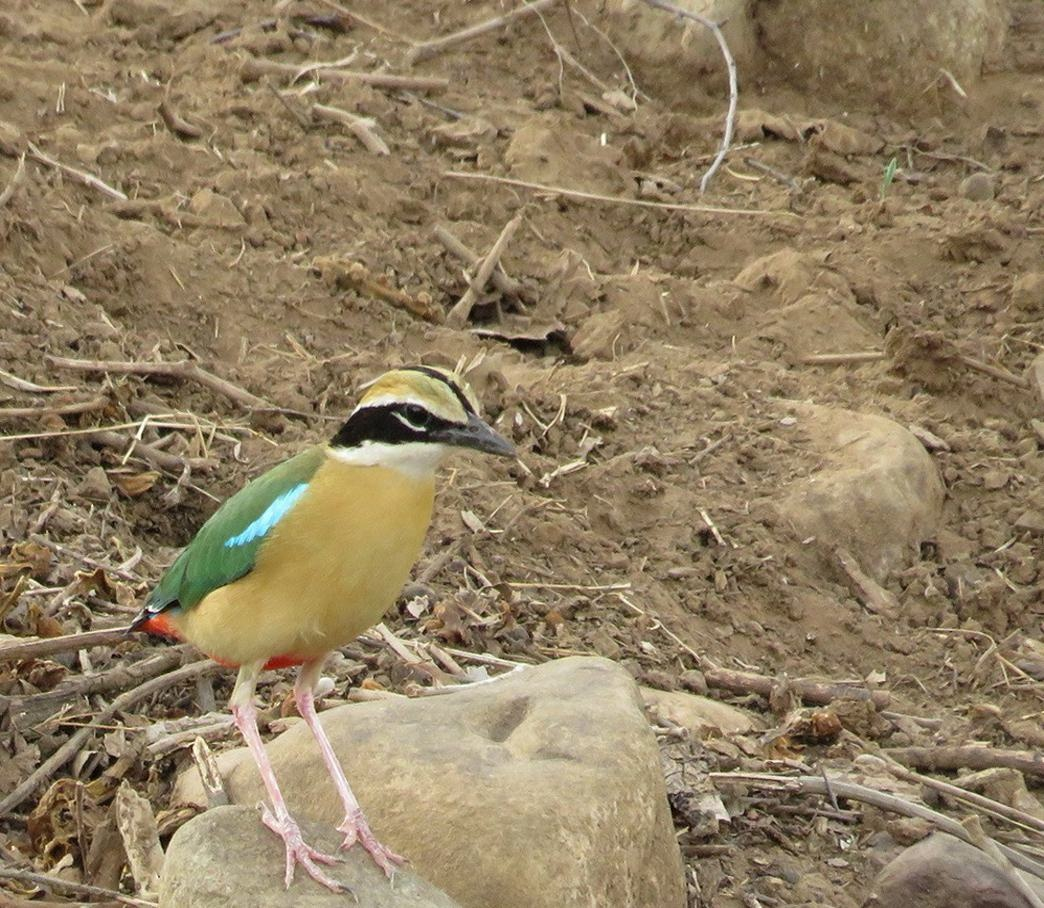pitta: (187, 309, 524, 824)
